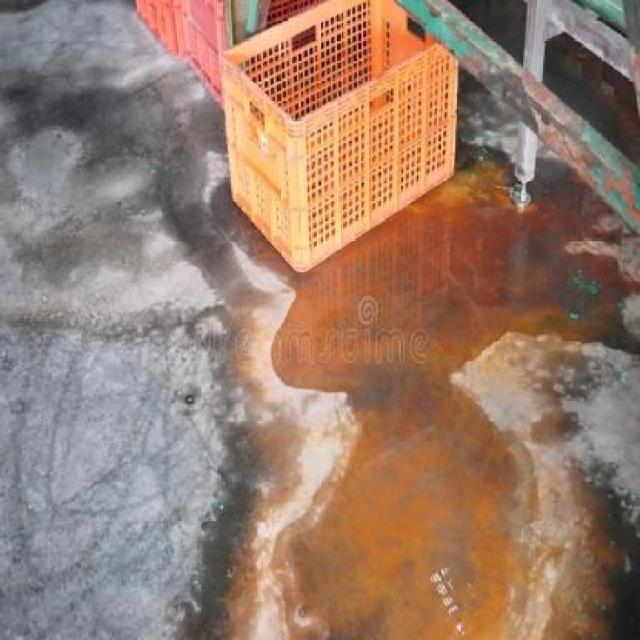spillage: (262, 77, 640, 640)
